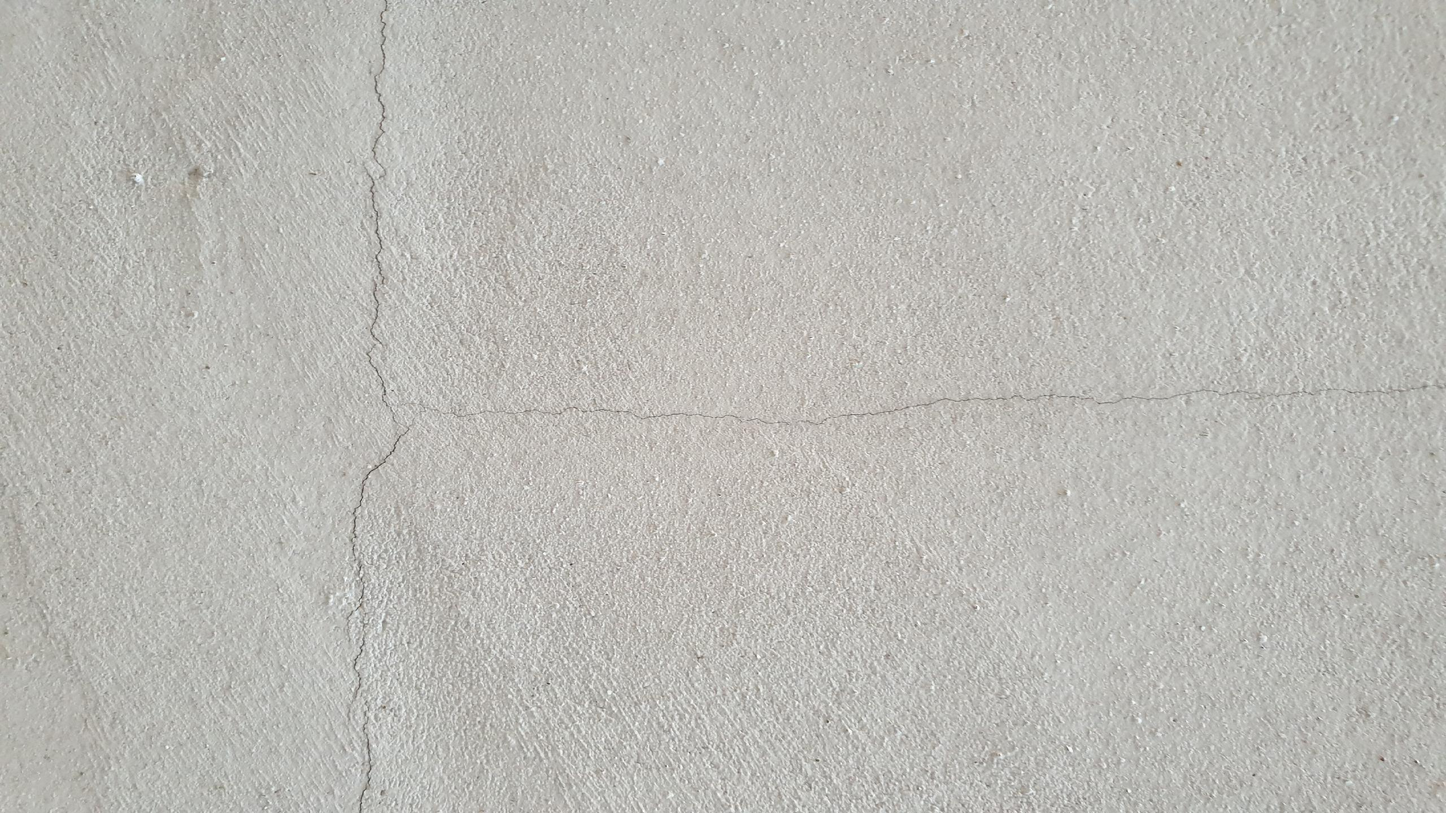crack: (347, 8, 1434, 805)
